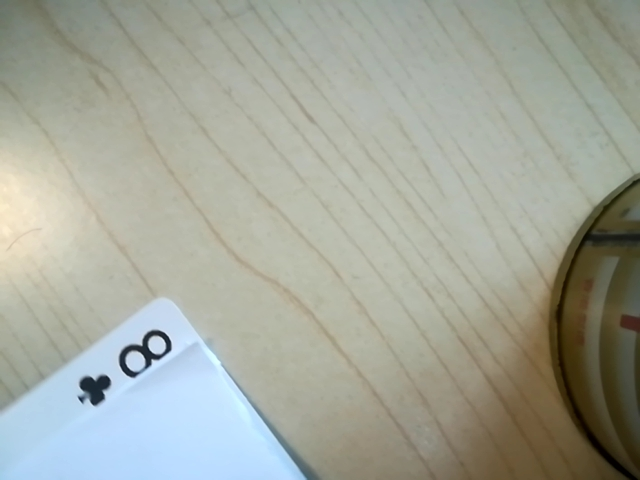mh 8: (68, 320, 185, 409)
